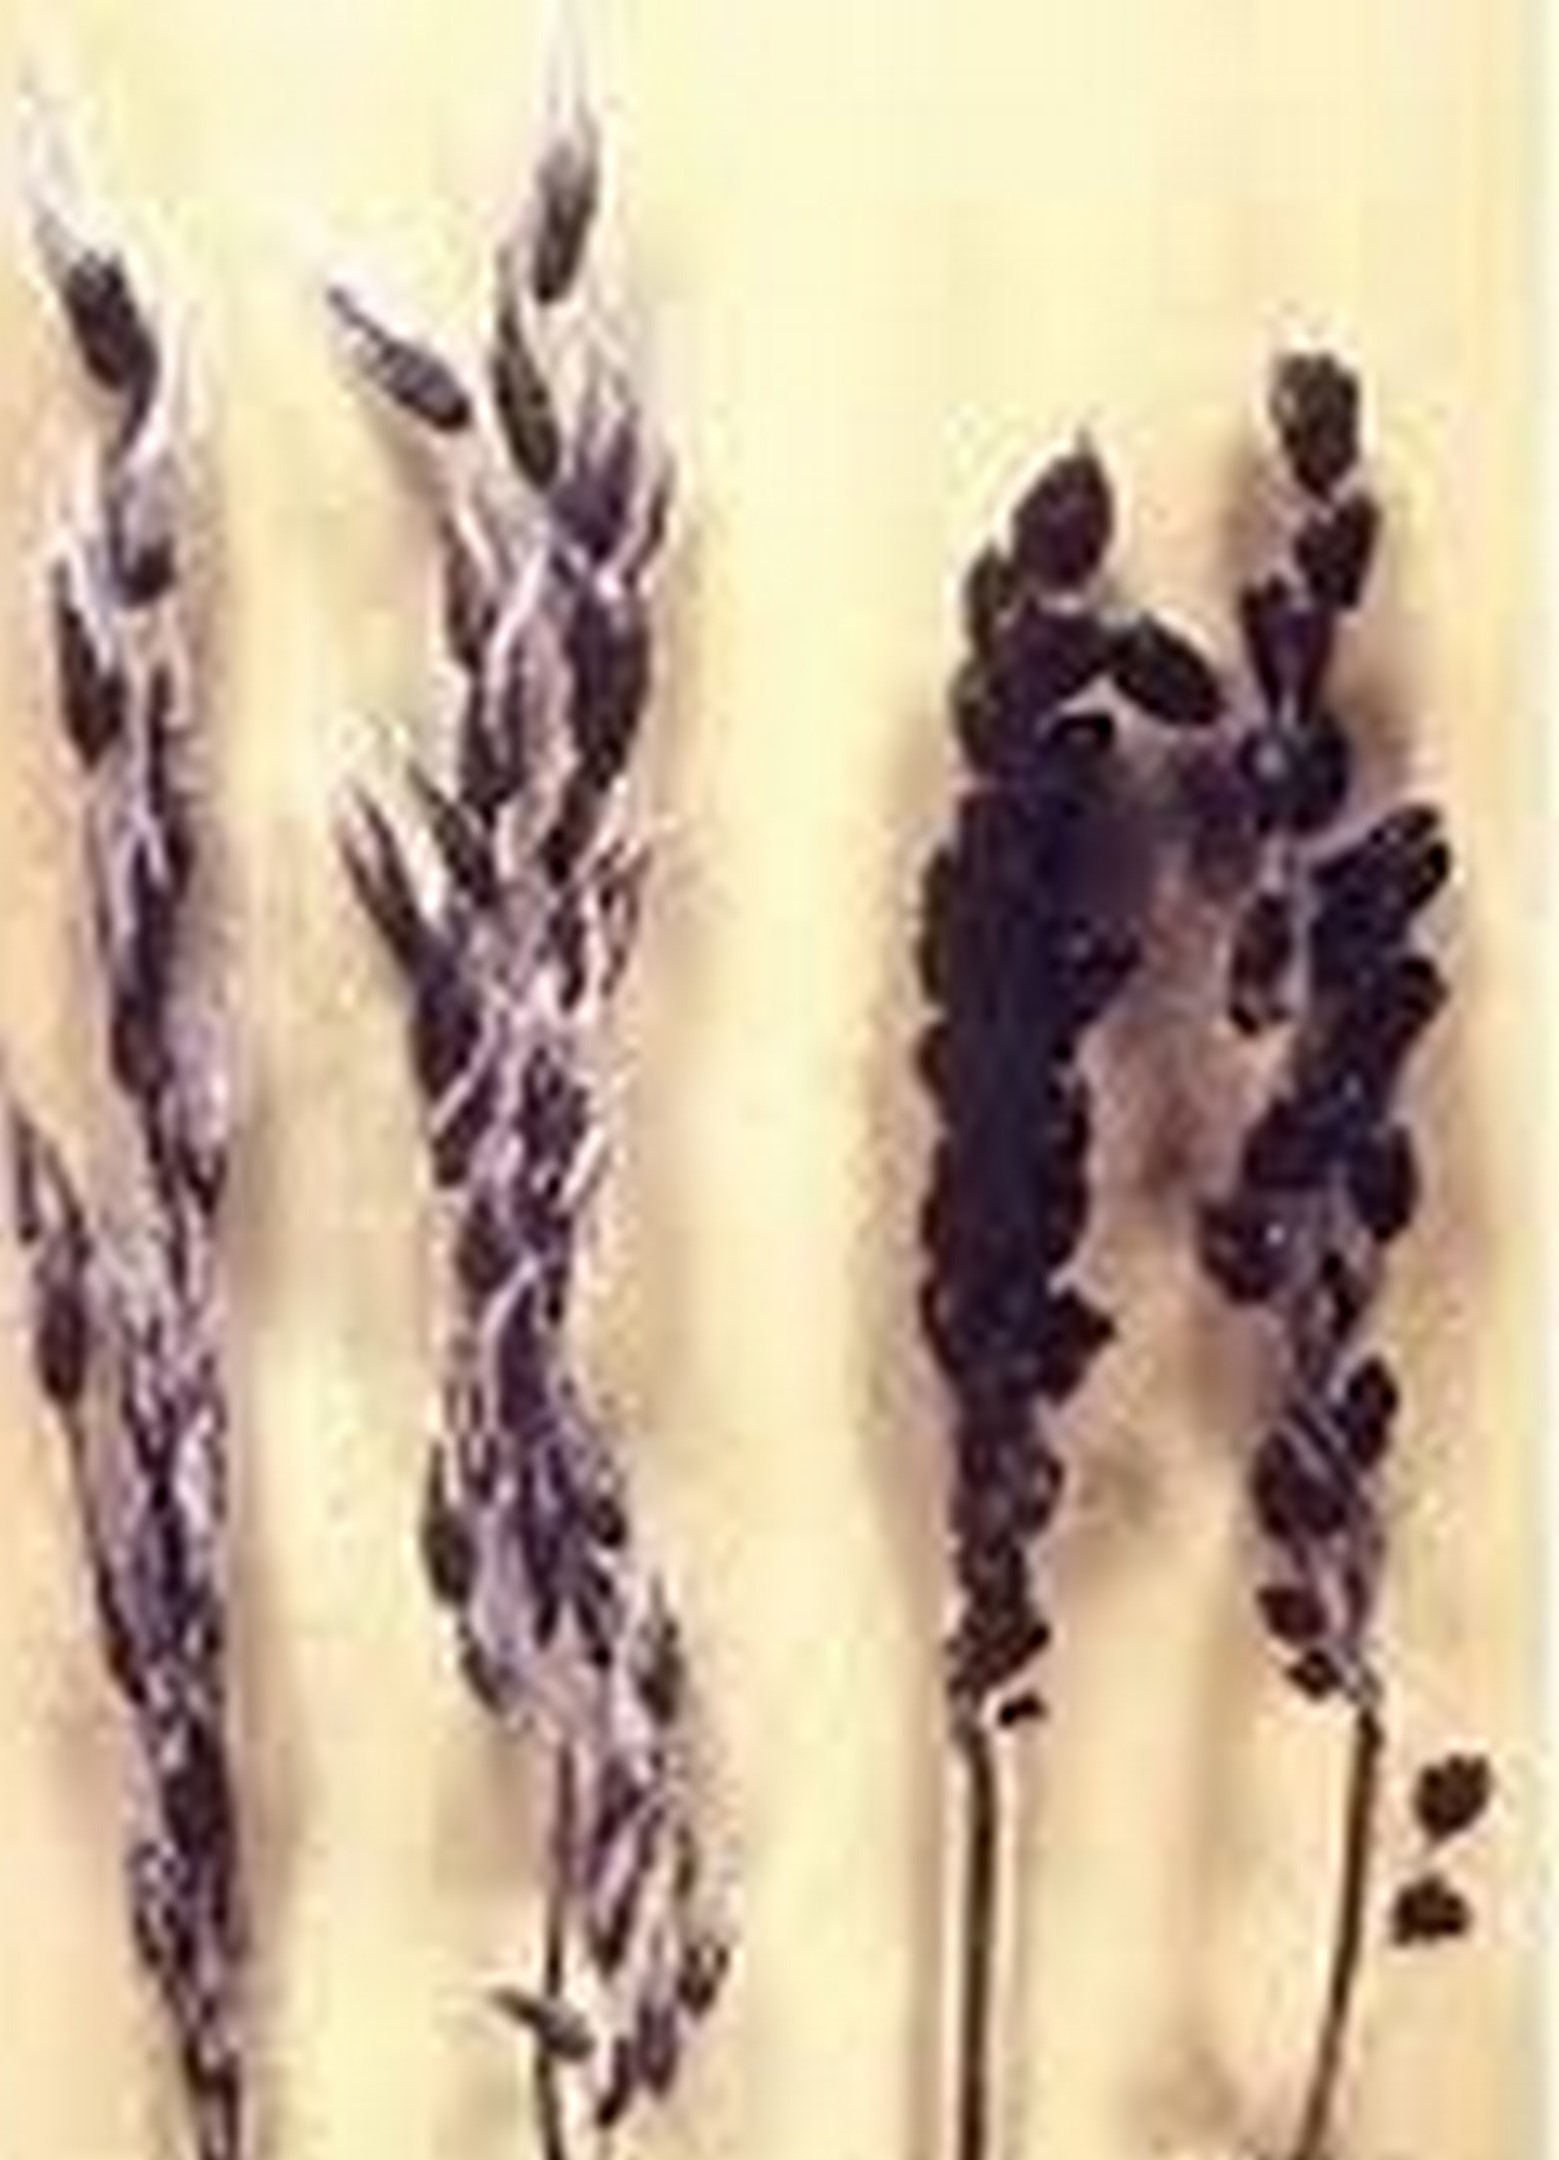Wheat Loose Smut: (30, 201, 769, 1989), (843, 397, 1485, 1769)
